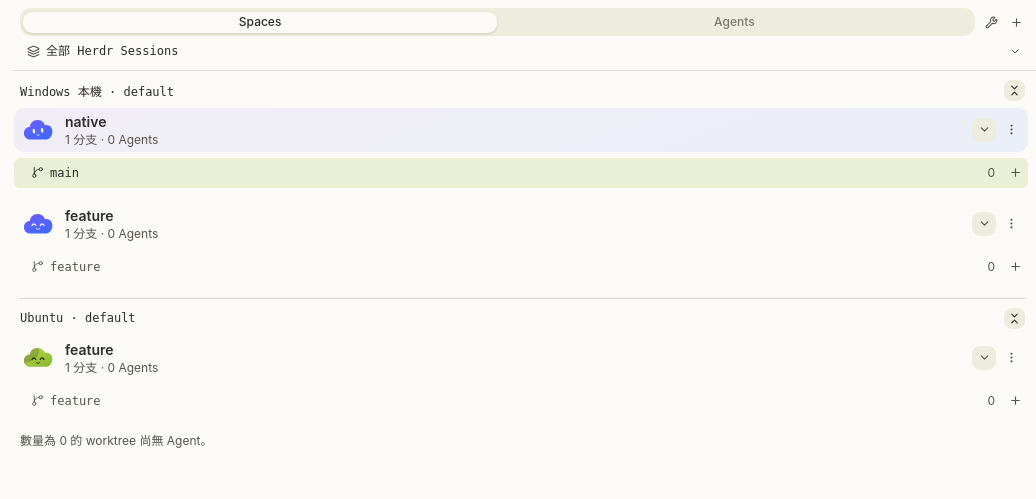
Test: does not create in a different branch if selection changes during activation
The width and height of the screenshot is (1036, 499).
Click the button named "在 feature 新增 terminal · Ubuntu · default".
click(1015, 400)  # box [1002,388,1028,414]
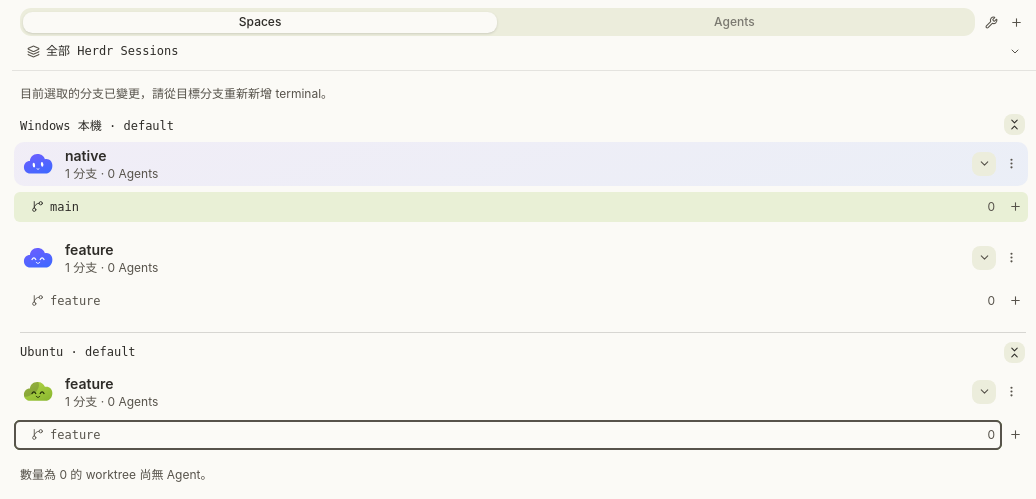
Expected: the message shows "目前選取的分支已變更", [20,86,333,101]
